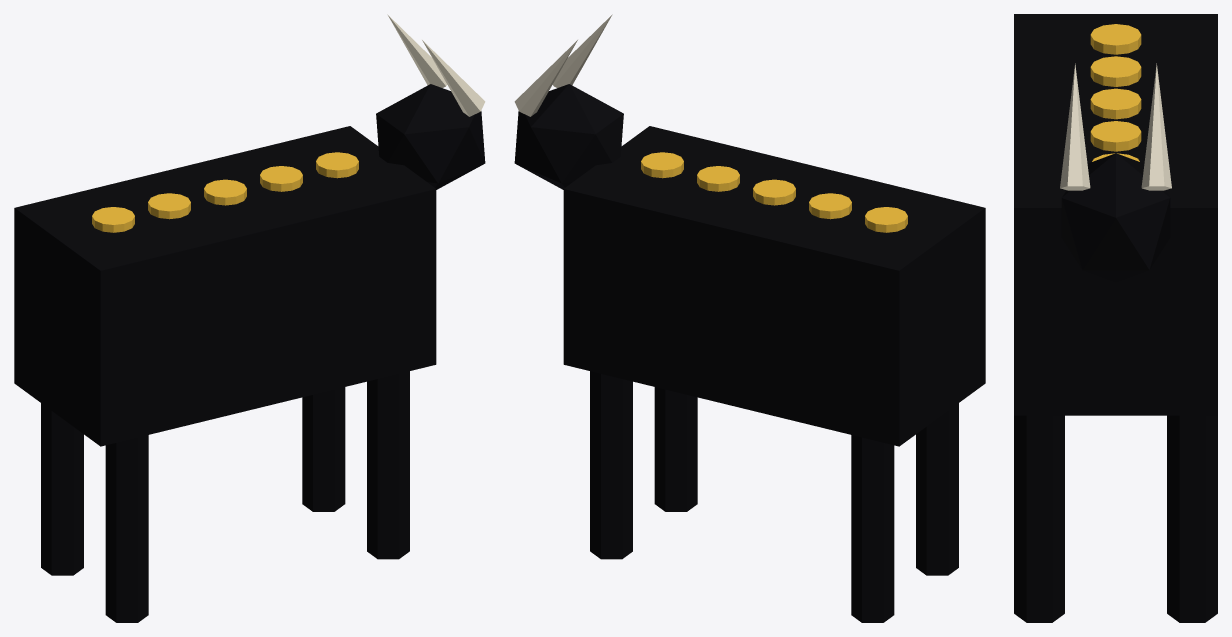
File: Mob_OR_CoinbackGoat_01.glb
3 views of the same model, side by side, from view 1: azimuth 30°, elevation 25°; view 2: azimuth 150°, elevation 25°; view 3: azimuth 270°, elevation 25° (orthographic). The views are drawn at different scales.
Visible parts, largest first — view 1: Mob_OR_CoinbackGoat_01; view 2: Mob_OR_CoinbackGoat_01; view 3: Mob_OR_CoinbackGoat_01.
Boxes of the visible parts, x1,y1,x2,y2 form: Mob_OR_CoinbackGoat_01: (14,14,485,622); Mob_OR_CoinbackGoat_01: (514,14,985,622); Mob_OR_CoinbackGoat_01: (1014,14,1217,622).
Size of the model in its own units: 1.13 by 1.25 by 0.4.
